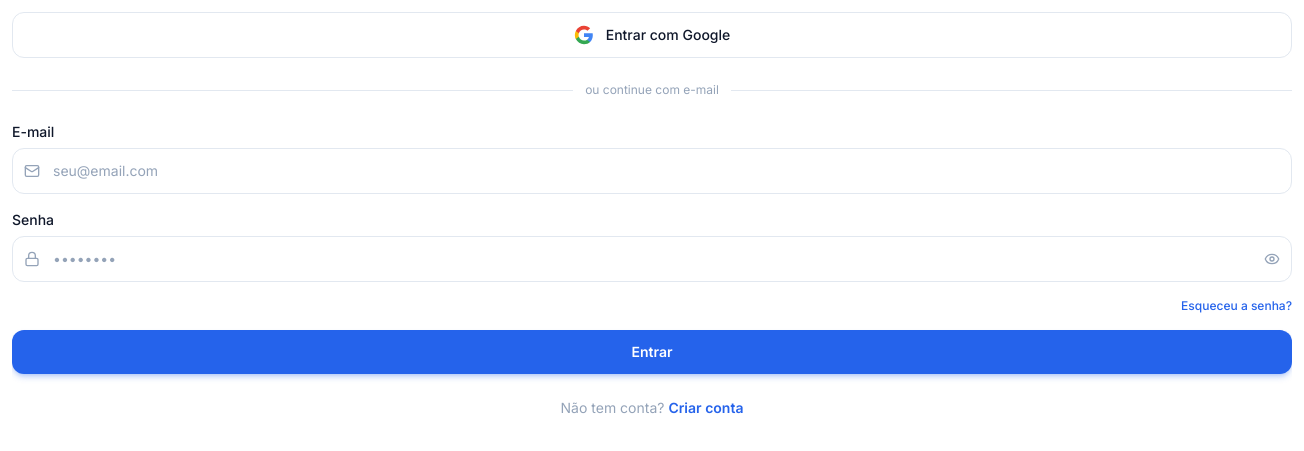
Scenario: LoginForm › shows validation error for invalid email on submit
The width and height of the screenshot is (1304, 451).
Type "nao-e-email" into the field labelled "E-mail" at (652, 171), box [12, 148, 1292, 194]
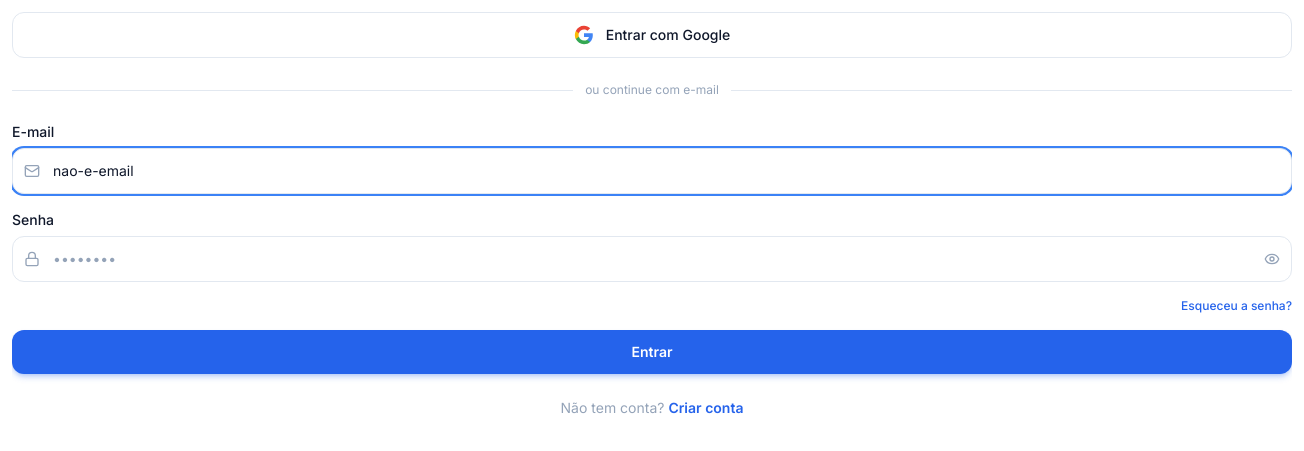
Type "Senh@123" into the password field labelled "Senha" at (652, 259), box [12, 236, 1292, 282]
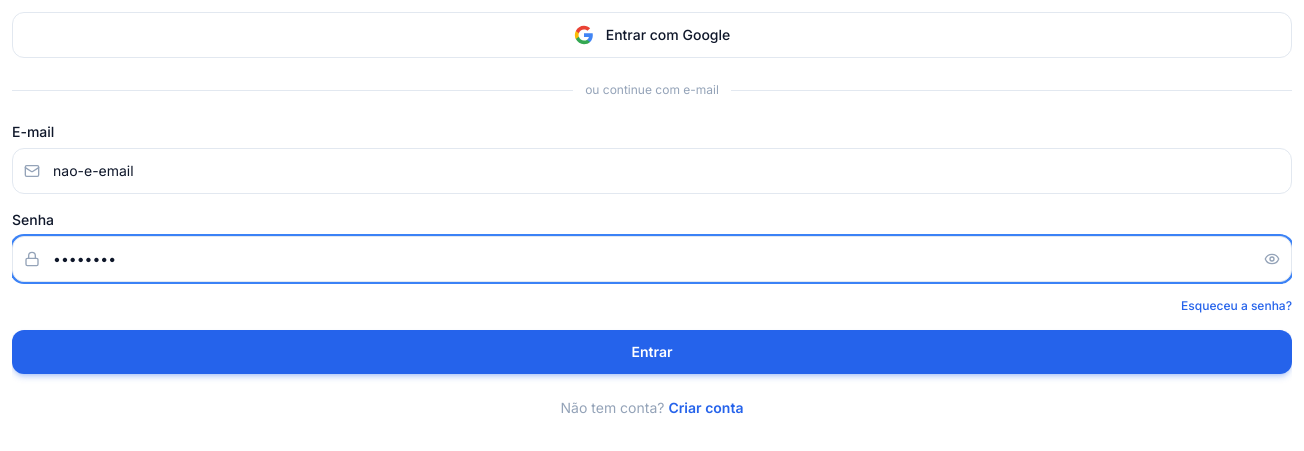
Click the button "Entrar" at (652, 352), box [12, 330, 1292, 374]
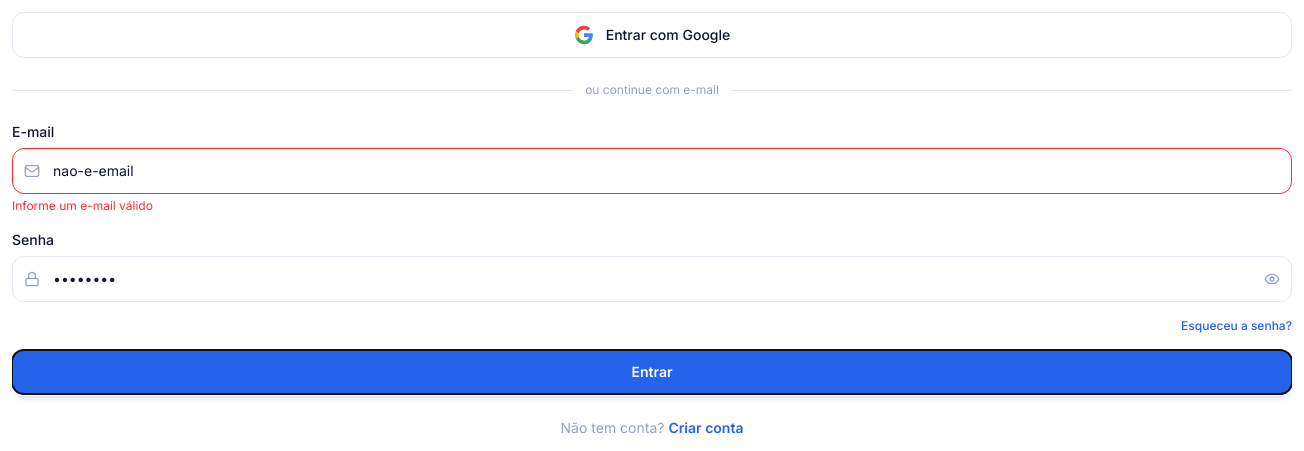
Expected: the text "Informe um e-mail válido" is shown, [12, 198, 153, 213]
